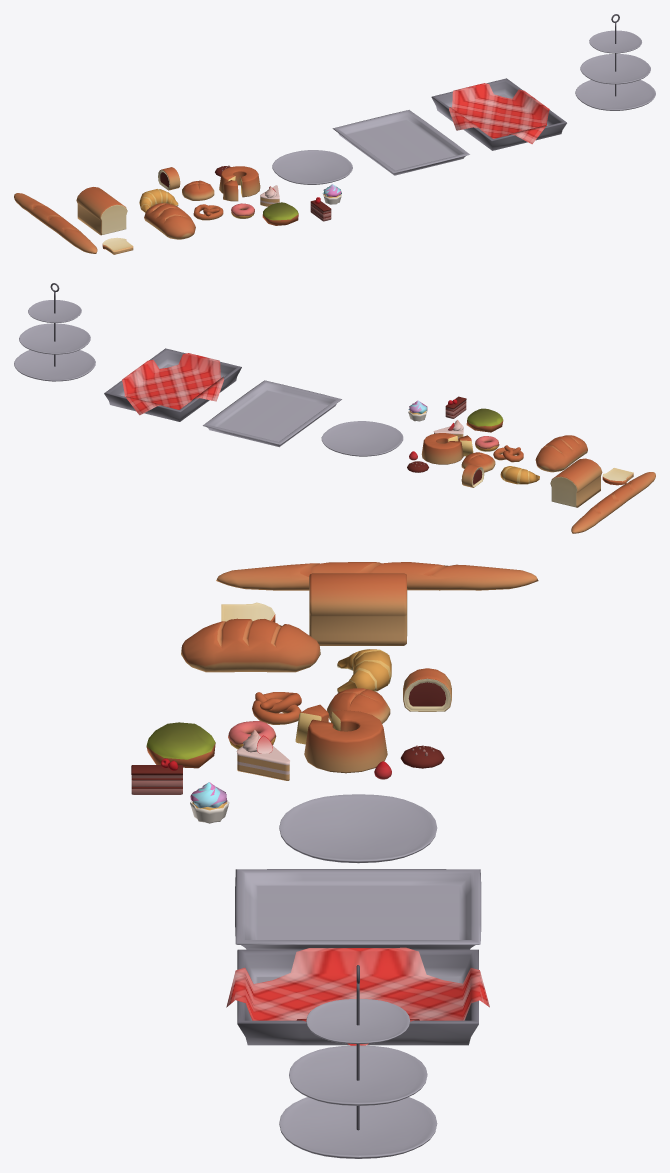
Rendered from breads.fbx.
The picture shows the model from 3 angles, top to bottom: view 1: azimuth 30°, elevation 25°; view 2: azimuth 150°, elevation 25°; view 3: azimuth 270°, elevation 25°; orthographic projection. The views are drawn at different scales.
Visible parts, largest first — view 1: plate2, plate1, dishes, disc, TOAST, long bread, BIG BREAD, chiffon cake, melon pan, croissant, ROUND BUN, swiss roll (+3 smaller); view 2: plate2, plate1, dishes, disc, TOAST, long bread, BIG BREAD, chiffon cake, melon pan, croissant, ROUND BUN, swiss roll (+2 smaller); view 3: plate2, plate1, dishes, disc, TOAST, long bread, BIG BREAD, chiffon cake, melon pan, swiss roll, strawberry cake, croissant (+5 smaller).
Boxes of the visible parts, box(x1,y1,x2,y2) form: plate2: box(431, 78, 566, 150); plate1: box(332, 110, 469, 175); dishes: box(575, 14, 655, 110); disc: box(272, 150, 352, 184); TOAST: box(76, 187, 127, 235); long bread: box(14, 193, 97, 253); BIG BREAD: box(144, 203, 195, 239); chiffon cake: box(219, 166, 260, 201); melon pan: box(262, 202, 298, 225); croissant: box(139, 189, 178, 212); ROUND BUN: box(182, 180, 214, 200); swiss roll: box(158, 167, 180, 190); plate2: box(104, 348, 241, 421); plate1: box(203, 380, 341, 447); dishes: box(14, 283, 95, 381); disc: box(321, 421, 403, 456); TOAST: box(550, 458, 602, 507); long bread: box(571, 472, 655, 533); BIG BREAD: box(535, 435, 587, 472); chiffon cake: box(421, 433, 473, 464); melon pan: box(466, 408, 503, 432); croissant: box(500, 466, 539, 484); ROUND BUN: box(461, 452, 495, 472); swiss roll: box(461, 464, 484, 487); plate2: box(226, 947, 489, 1045); plate1: box(235, 869, 481, 949); dishes: box(279, 965, 437, 1158); disc: box(279, 794, 437, 863); TOAST: box(309, 573, 407, 645); long bread: box(216, 562, 538, 590); BIG BREAD: box(181, 618, 320, 672); chiffon cake: box(295, 704, 387, 773); melon pan: box(146, 722, 215, 768); swiss roll: box(403, 668, 451, 711); strawberry cake: box(236, 730, 289, 780); croissant: box(337, 649, 391, 692).
Bounding box in the file's own units: 1580 × 215 × 466.
1 material, 1 textured.
